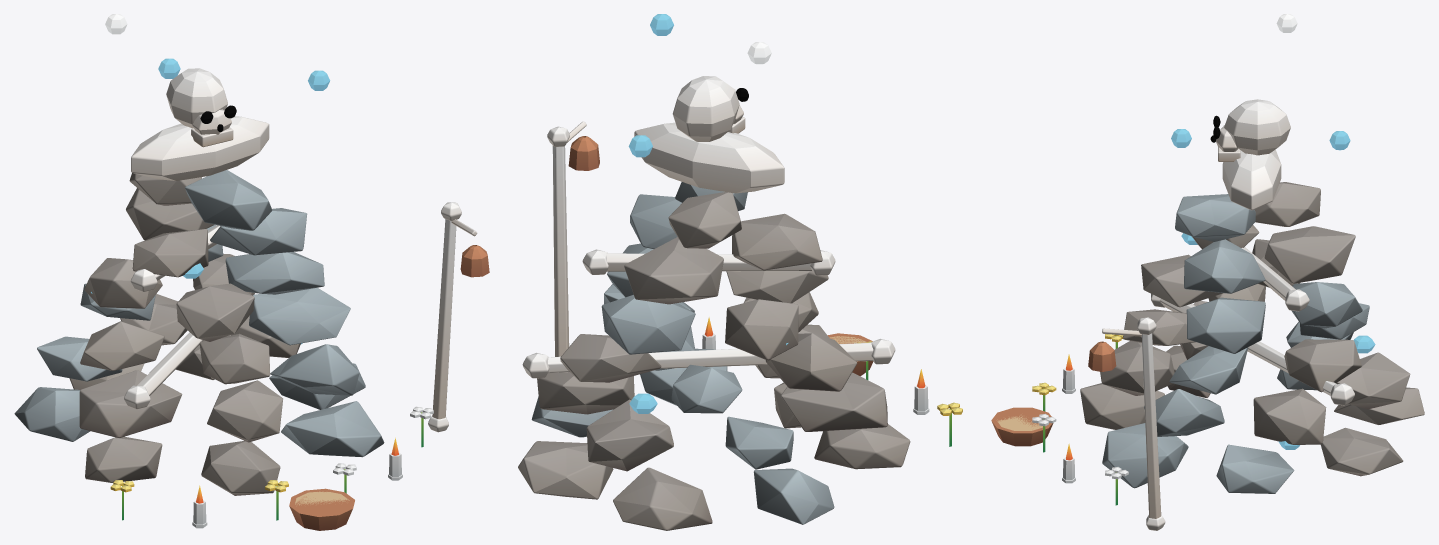
Rendered from spirit_cairn.glb.
3 renders of one model, left to right at view 1: azimuth 30°, elevation 25°; view 2: azimuth 150°, elevation 25°; view 3: azimuth 270°, elevation 25°, orthographic. The views are drawn at different scales.
Parts seen in each view (by area): view 1: spirit_cairn; view 2: spirit_cairn; view 3: spirit_cairn.
Part boxes in pixels (<box>): spirit_cairn: <box>14,14,489,530</box>; spirit_cairn: <box>518,14,962,530</box>; spirit_cairn: <box>991,14,1424,530</box>.
Size of the model in its own units: 2.27 by 2.51 by 2.46.
Materials: 4 (4 with a texture image).
